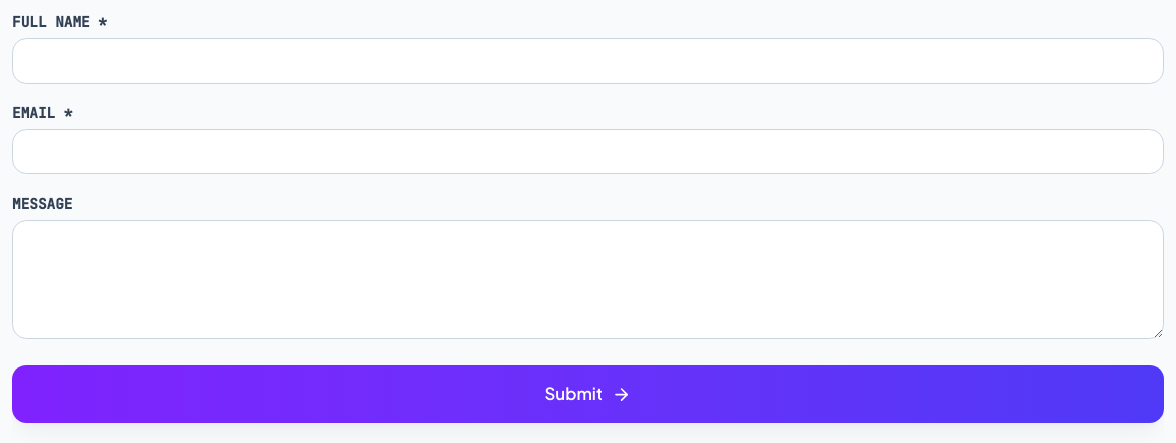
PublicForm › submits real field values plus UTM params and landing page path, and shows the real success message
Type "Jane Visitor" into the field labelled "Full name *" at (588, 61), box 12,38 -> 1164,84
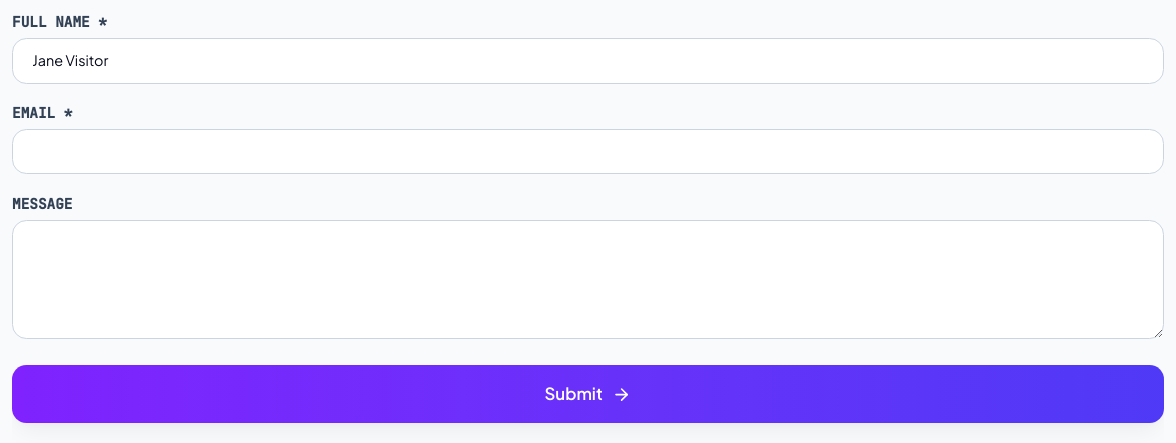
Type "jane@example.com" into the field labelled "Email *" at (588, 152), box 12,129 -> 1164,174
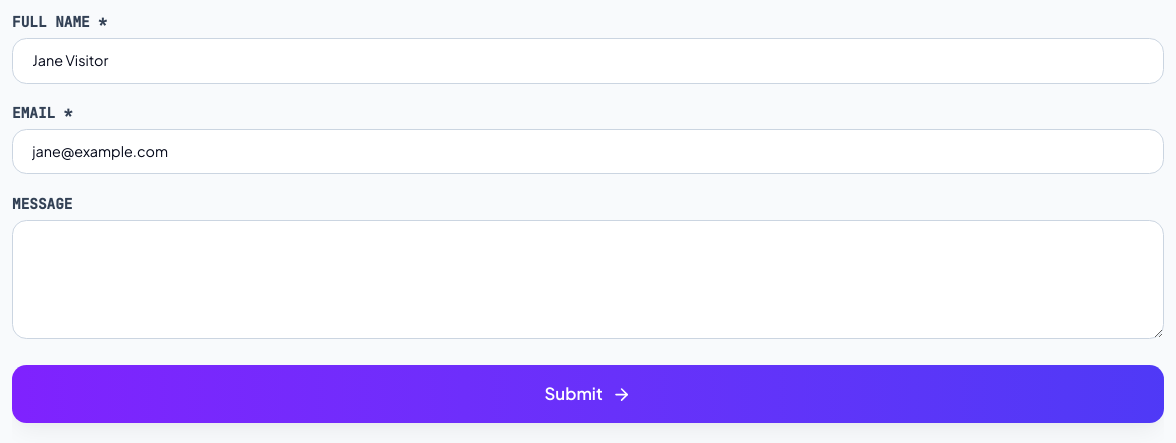
Click the button "Submit" at (588, 394), box 12,365 -> 1164,423
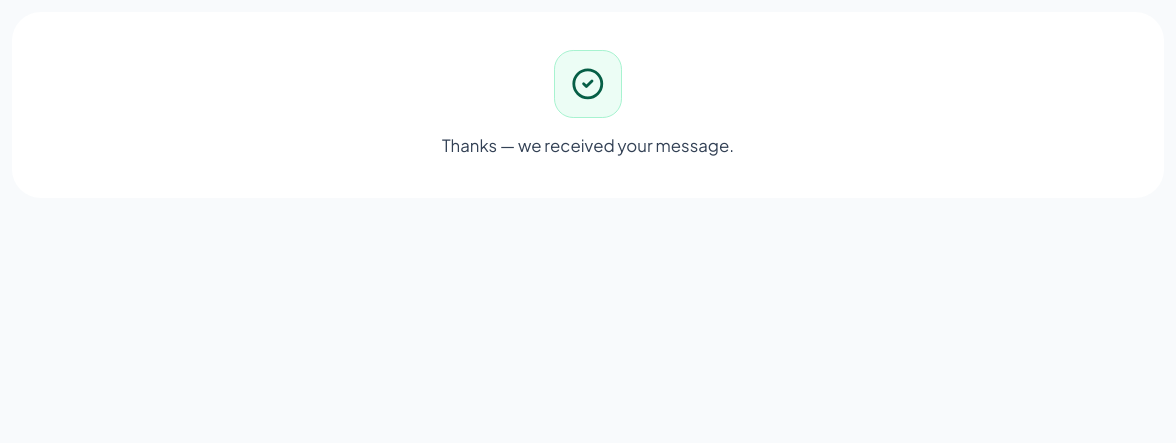
Check: the text "Thanks — we received your message." is shown, box 442,135 -> 734,156
